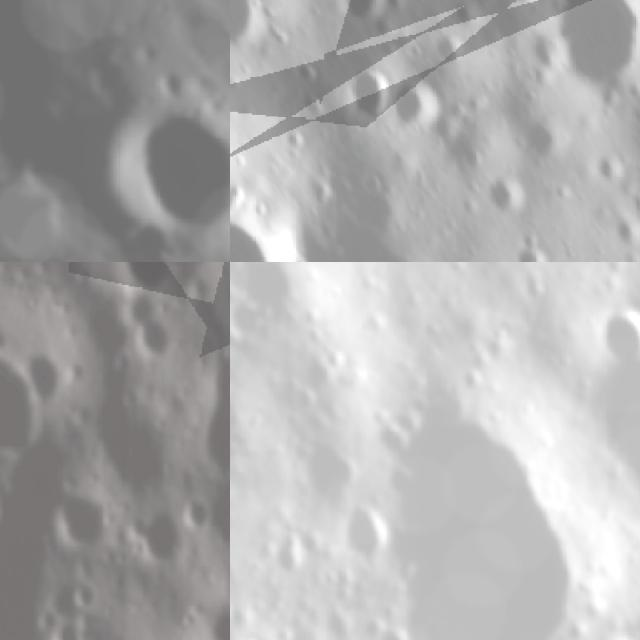crater: (353, 393, 598, 640), (72, 66, 230, 262), (529, 0, 640, 120), (563, 331, 640, 468), (230, 169, 324, 262), (0, 352, 59, 476), (332, 52, 407, 133), (373, 62, 449, 140), (39, 481, 112, 558), (230, 3, 255, 226), (193, 341, 230, 483), (124, 288, 184, 371), (296, 434, 359, 512), (508, 100, 573, 168), (514, 21, 576, 90), (336, 498, 392, 565), (586, 298, 640, 367), (130, 502, 192, 559), (234, 262, 298, 317), (230, 0, 279, 62), (480, 168, 530, 223), (499, 224, 565, 262), (588, 142, 634, 188), (329, 0, 397, 31), (62, 566, 103, 616), (193, 592, 230, 640), (183, 491, 219, 536), (606, 207, 640, 254), (45, 614, 91, 640), (454, 359, 487, 395), (482, 332, 514, 366), (523, 273, 552, 307), (496, 0, 547, 17), (379, 620, 413, 640)
